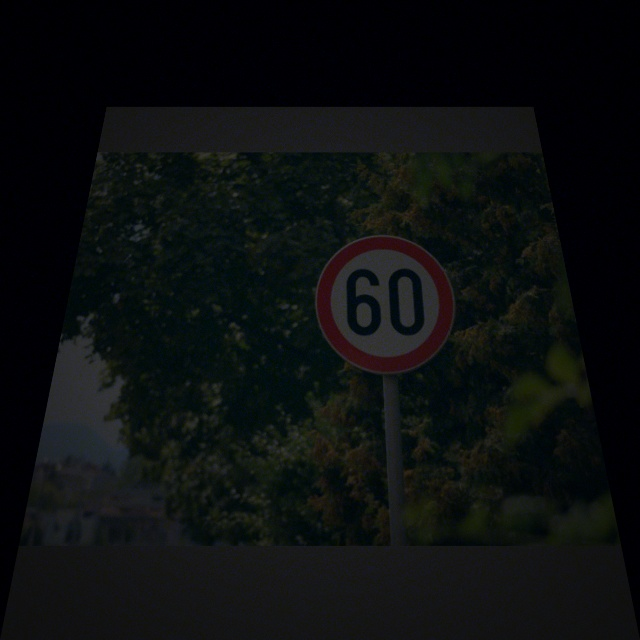Speed_Limit_60: (310, 234, 462, 375)
